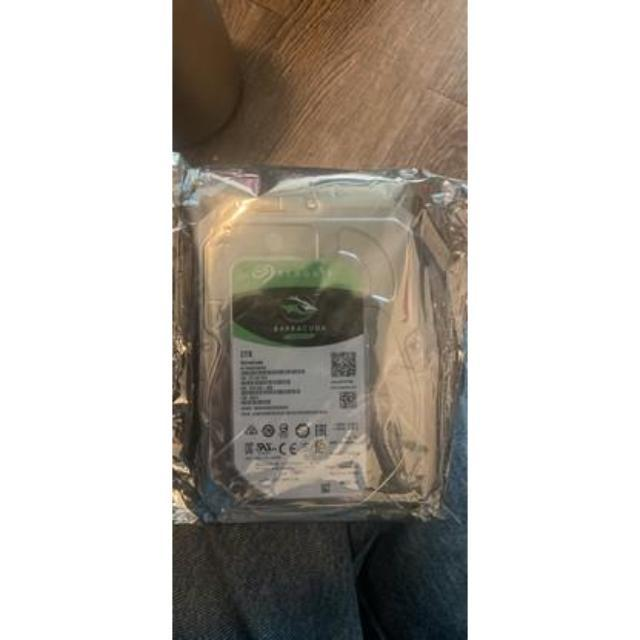DISK: (201, 192, 419, 506)
